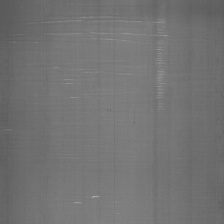waist_folding: (49, 14, 165, 182)
